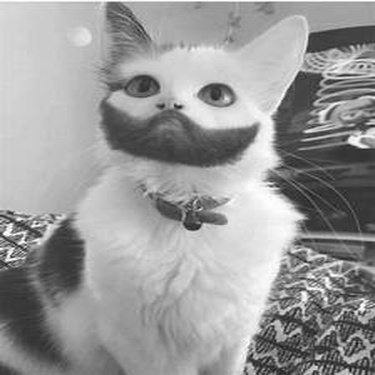cat: (4, 2, 312, 369)
